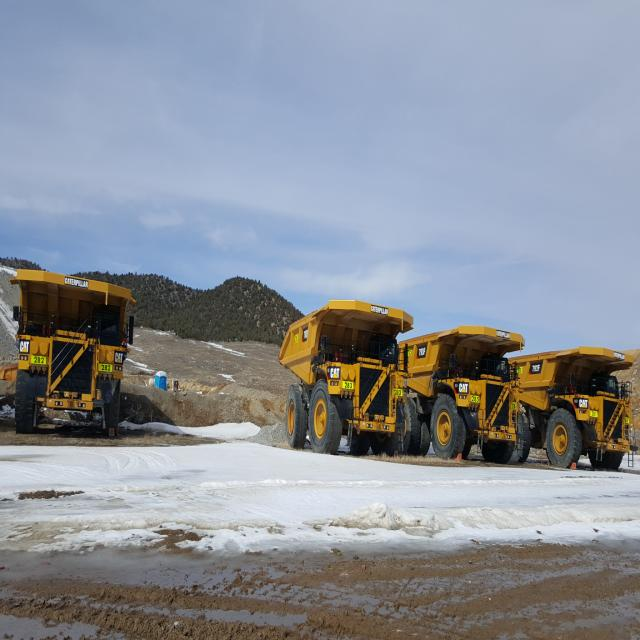dump_truck: (264, 288, 410, 474), (7, 257, 136, 452), (414, 314, 524, 480), (530, 325, 632, 487)
